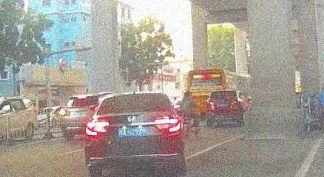L_light: (86, 122, 109, 136), (210, 102, 215, 111)
R_light: (154, 118, 181, 132), (229, 101, 236, 110)
T_light: (128, 108, 142, 112), (220, 92, 226, 94)
day-brake: (84, 92, 184, 177)
day-no: (207, 91, 241, 127)
